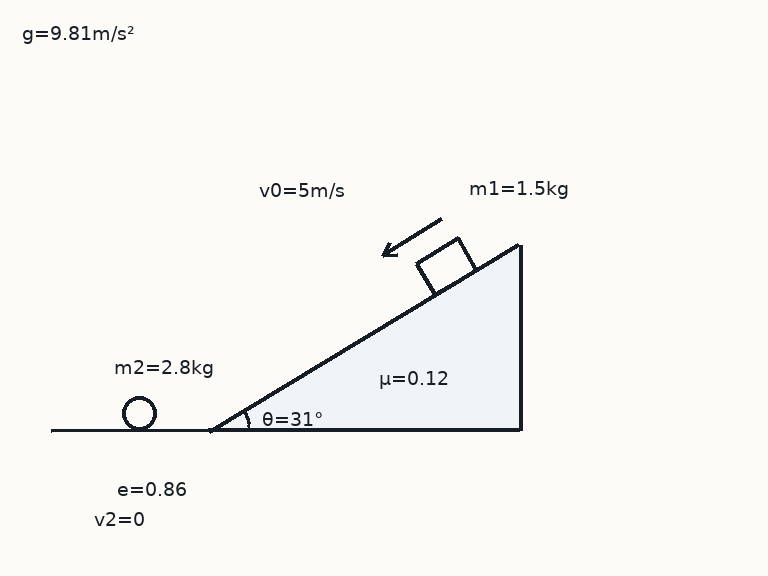ball: (120, 394, 158, 432)
block: (414, 237, 478, 296)
ramp: (207, 242, 521, 432)
